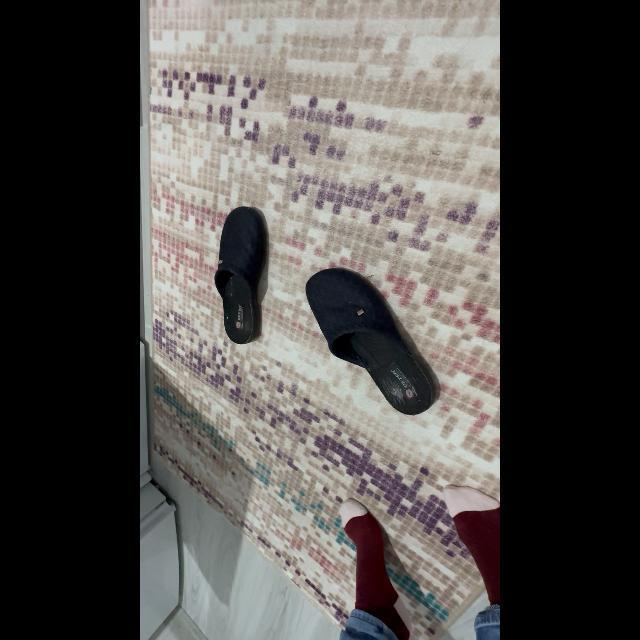slipper: (300, 262, 448, 421), (207, 195, 287, 351)
